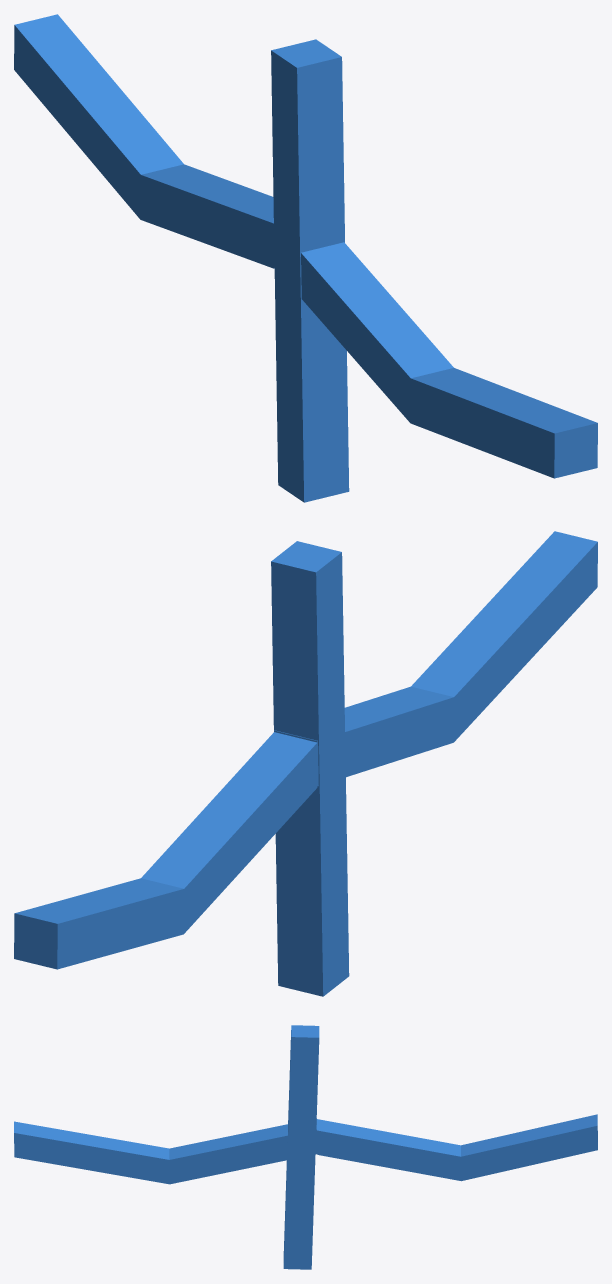
The model's file is Collision_Roof_Spikes_Mid1.fbx.
3 renders of one model, top to bottom at view 1: azimuth 30°, elevation 25°; view 2: azimuth 150°, elevation 25°; view 3: azimuth 270°, elevation 25°, orthographic. The views are drawn at different scales.
Parts seen in each view (by area): view 1: UCX_Roof_Spikes_Mid1_01; view 2: UCX_Roof_Spikes_Mid1_01; view 3: UCX_Roof_Spikes_Mid1_01.
Boxes of the visible parts, x1=… form: UCX_Roof_Spikes_Mid1_01: x1=14, y1=14, x2=597, y2=502; UCX_Roof_Spikes_Mid1_01: x1=14, y1=531, x2=597, y2=996; UCX_Roof_Spikes_Mid1_01: x1=14, y1=1025, x2=597, y2=1269.
Bounding box in the file's own units: 14.41 × 132 × 300.
